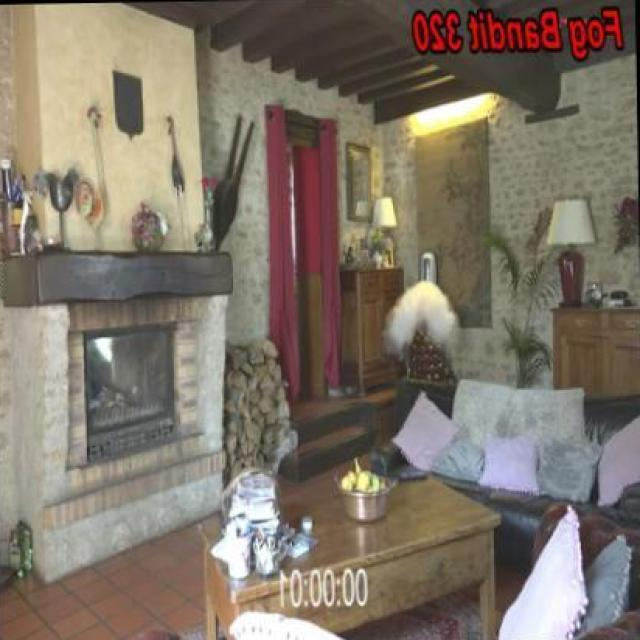fire: (388, 276, 458, 356)
